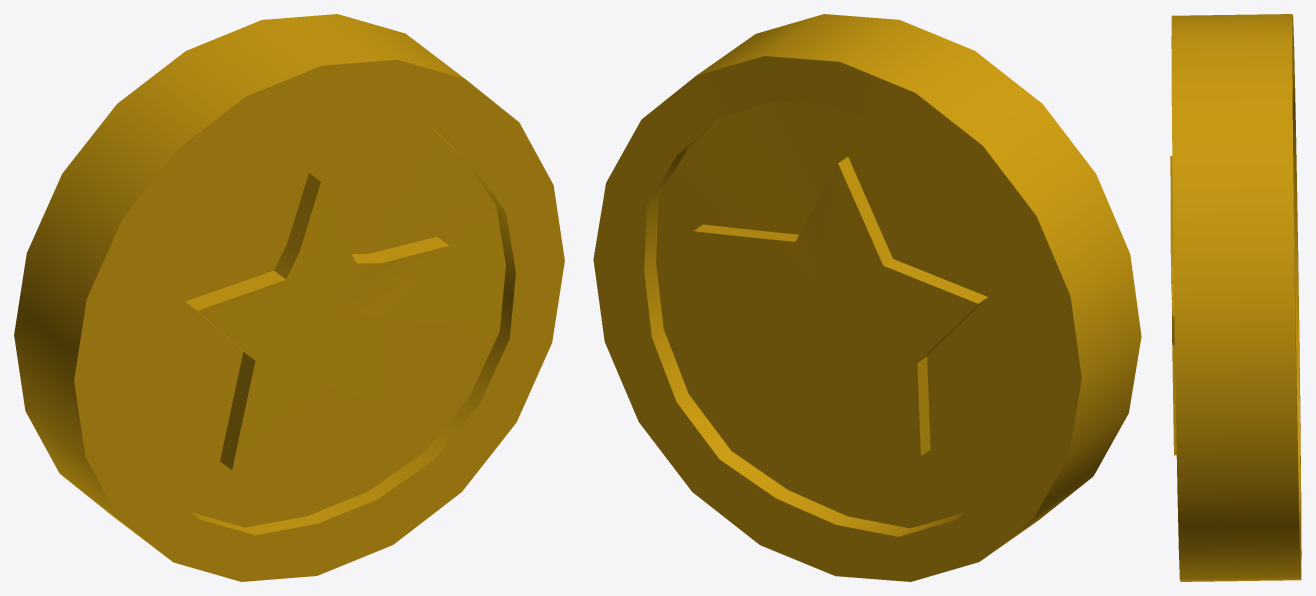
Rendered from Coin.dae.
3 views of the same model, side by side, from view 1: azimuth 30°, elevation 25°; view 2: azimuth 150°, elevation 25°; view 3: azimuth 270°, elevation 25° (orthographic).
Parts seen in each view (by area): view 1: pCylinder1; view 2: pCylinder1; view 3: pCylinder1.
Part boxes in pixels (left/top/right/bottom): pCylinder1: left=14, top=14, right=564, bottom=581; pCylinder1: left=593, top=14, right=1141, bottom=581; pCylinder1: left=1170, top=14, right=1301, bottom=581.
Size of the model in its own units: 2 by 2.01 by 0.4594.
